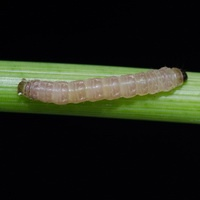insect: (18, 67, 186, 103)
